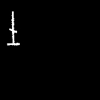double_crochet: (8, 12, 19, 44)
